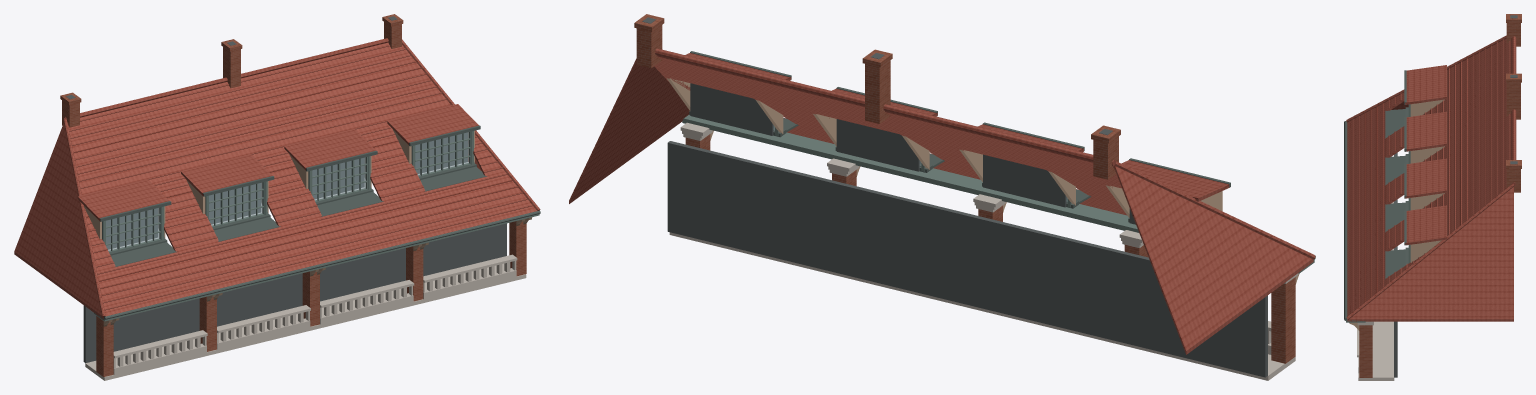
The model's file is full-source.glb.
3 views of the same model, side by side, from view 1: azimuth 30°, elevation 25°; view 2: azimuth 150°, elevation 25°; view 3: azimuth 270°, elevation 25° (orthographic). The views are drawn at different scales.
Parts seen in each view (by area): view 1: 新华村14号楼南坡四座老虎窗; view 2: 新华村14号楼南坡四座老虎窗; view 3: 新华村14号楼南坡四座老虎窗.
Part boxes in pixels (bbox=[...]): 新华村14号楼南坡四座老虎窗: bbox=[14, 14, 540, 380]; 新华村14号楼南坡四座老虎窗: bbox=[569, 14, 1315, 380]; 新华村14号楼南坡四座老虎窗: bbox=[1344, 14, 1521, 380].
Size of the model in its own units: 20.27 by 9.94 by 7.67.
8 materials, 2 textured.
